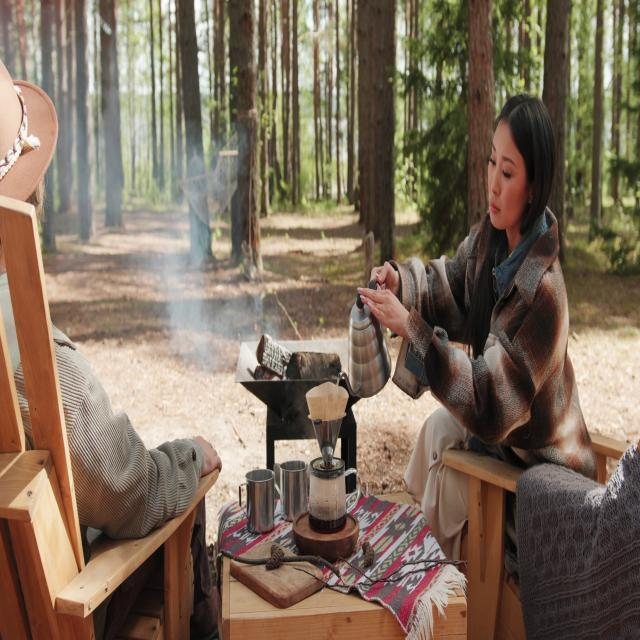Smoke: (63, 65, 249, 384)
